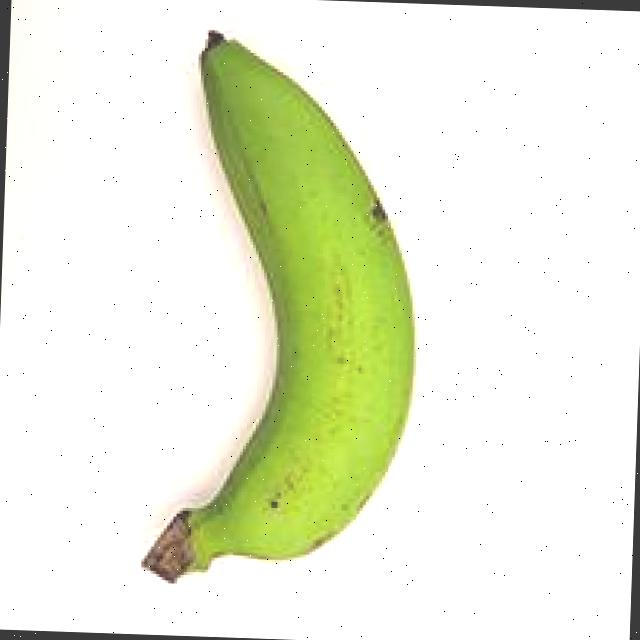Raw: (104, 1, 454, 604)
